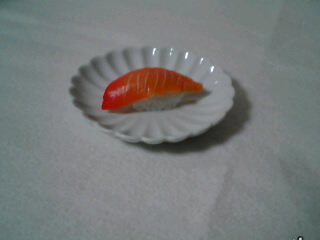002_classes: (100, 63, 208, 116)
